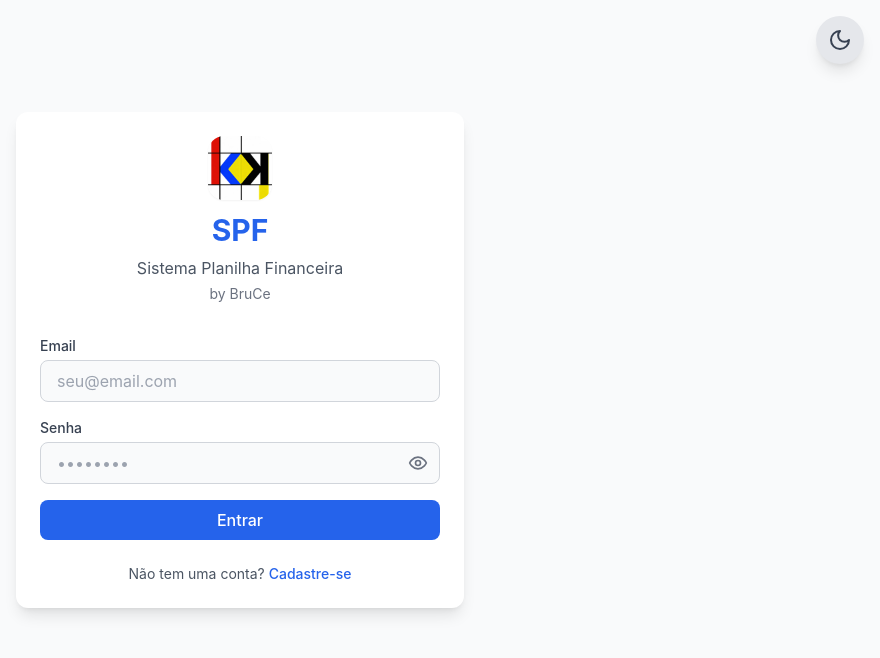
Test: Tela de login › mostra erros de validação (Zod) ao enviar o formulário em branco
Click the submit button at (240, 520), box left=40, top=500, right=440, bottom=540
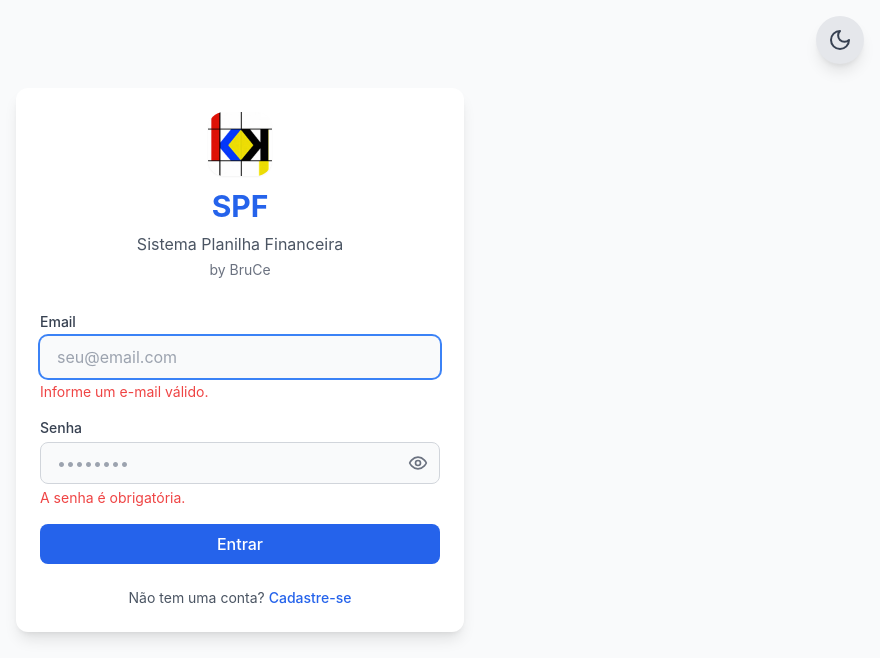
Result: the text "Informe um e-mail válido." is shown at left=40, top=383, right=208, bottom=400
Result: the text "A senha é obrigatória." is shown at left=40, top=489, right=185, bottom=506
